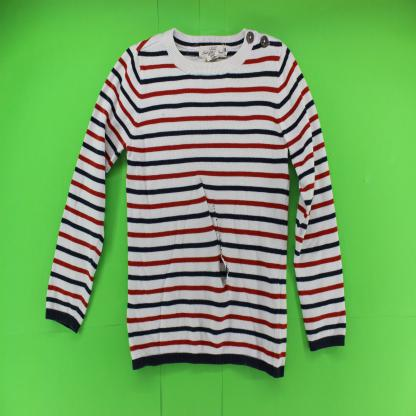hole: (212, 197, 232, 301)
